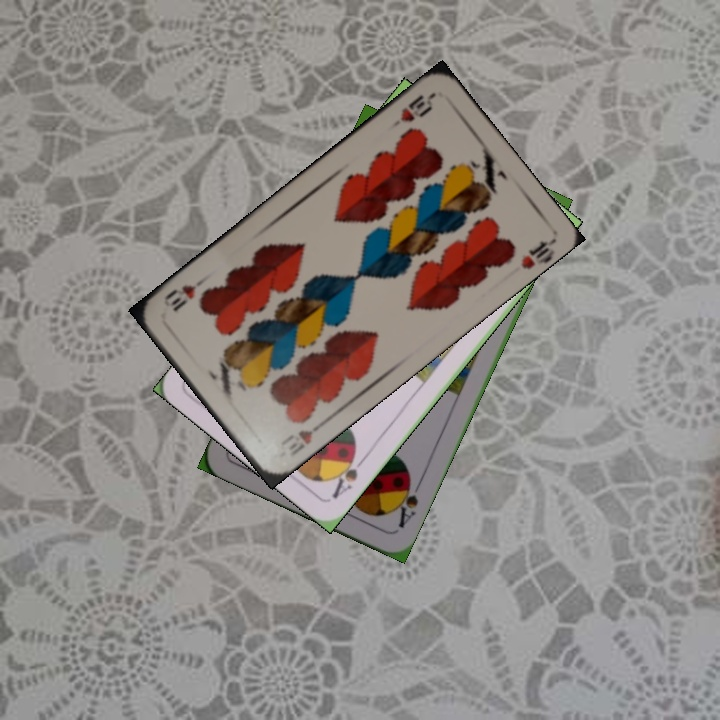H10: (386, 89, 437, 132), (276, 417, 327, 459)
SA: (327, 446, 369, 502), (389, 472, 425, 531)
